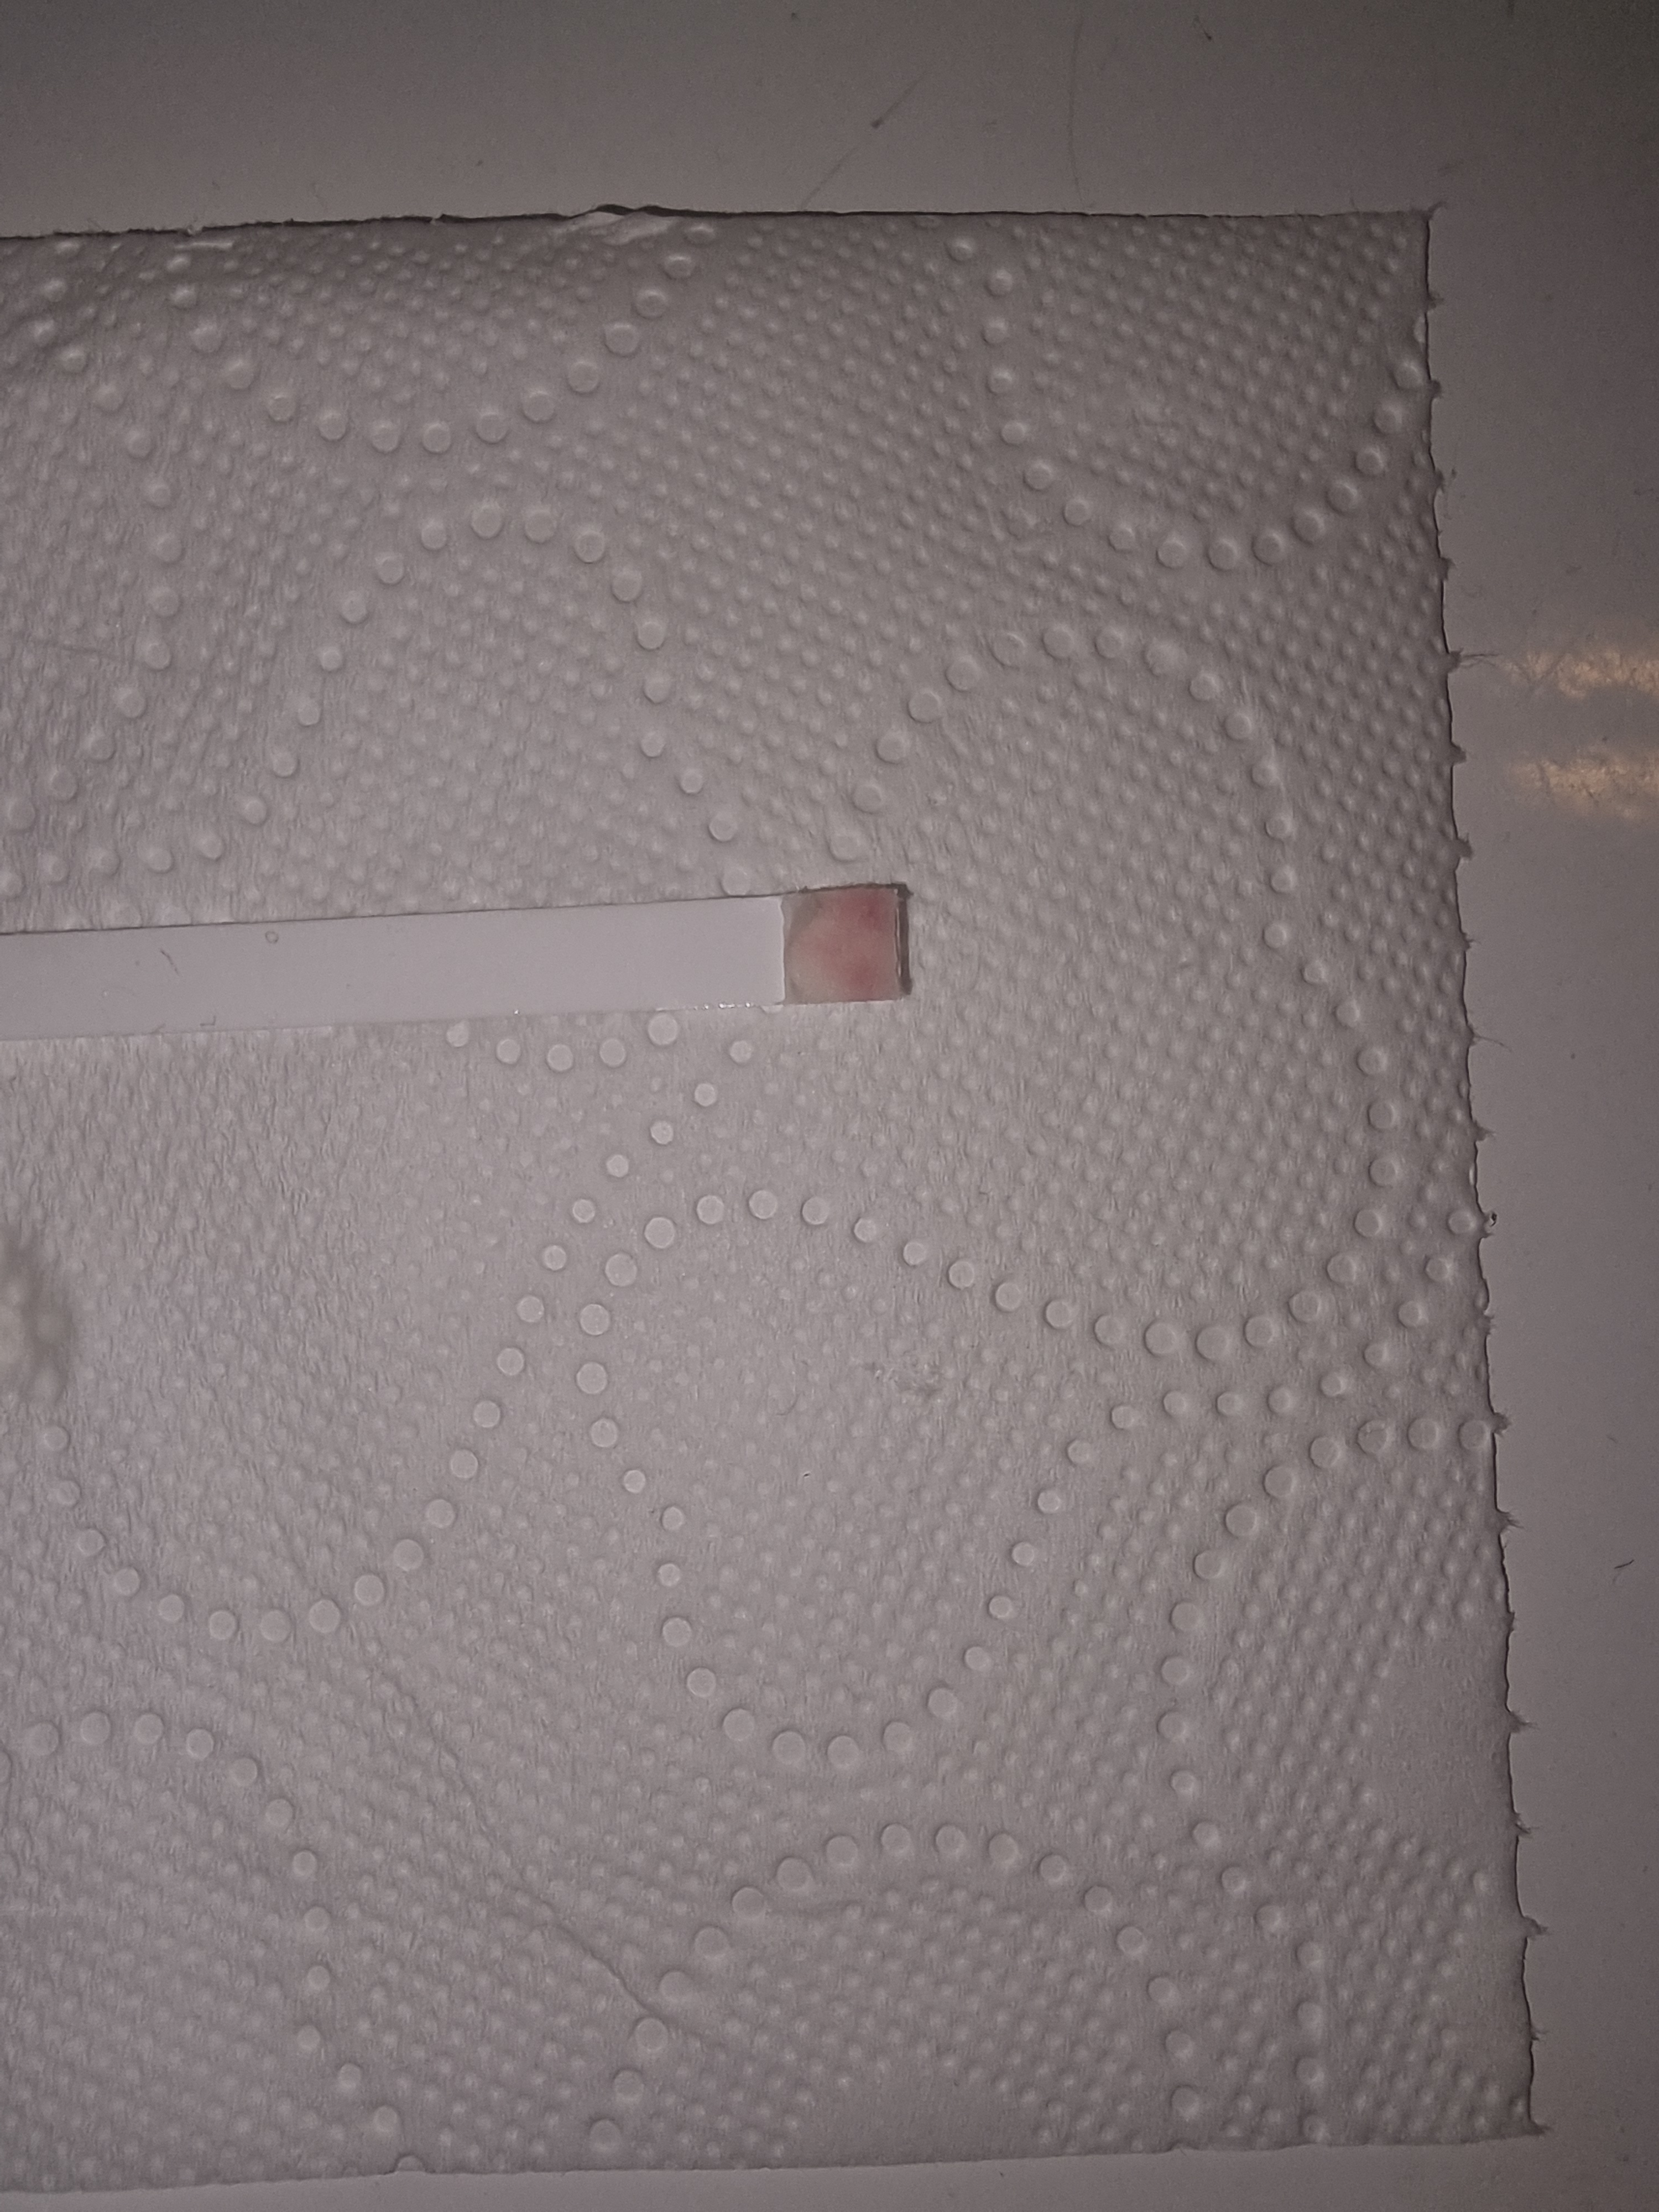keto-tip: (774, 881, 917, 1012)
